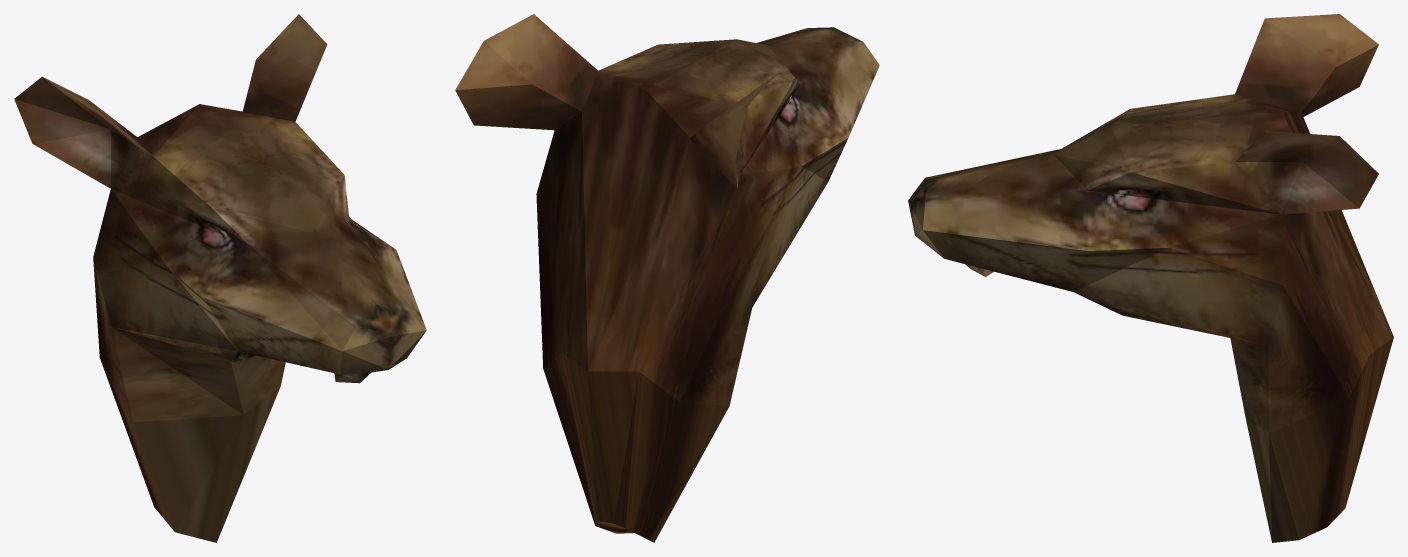
The model's file is HELMSZCZUR.glb.
The picture shows the model from 3 angles, left to right: view 1: azimuth 30°, elevation 25°; view 2: azimuth 150°, elevation 25°; view 3: azimuth 270°, elevation 25°; orthographic projection. The views are drawn at different scales.
Parts seen in each view (by area): view 1: HELMSZCZUR; view 2: HELMSZCZUR; view 3: HELMSZCZUR.
Boxes of the visible parts, left/top/right/bottom form: HELMSZCZUR: left=14, top=14, right=426, bottom=542; HELMSZCZUR: left=455, top=14, right=879, bottom=542; HELMSZCZUR: left=908, top=14, right=1393, bottom=542.
Bounding box in the file's own units: 0.3039 × 0.5068 × 0.4822.
1 material, 1 textured.
